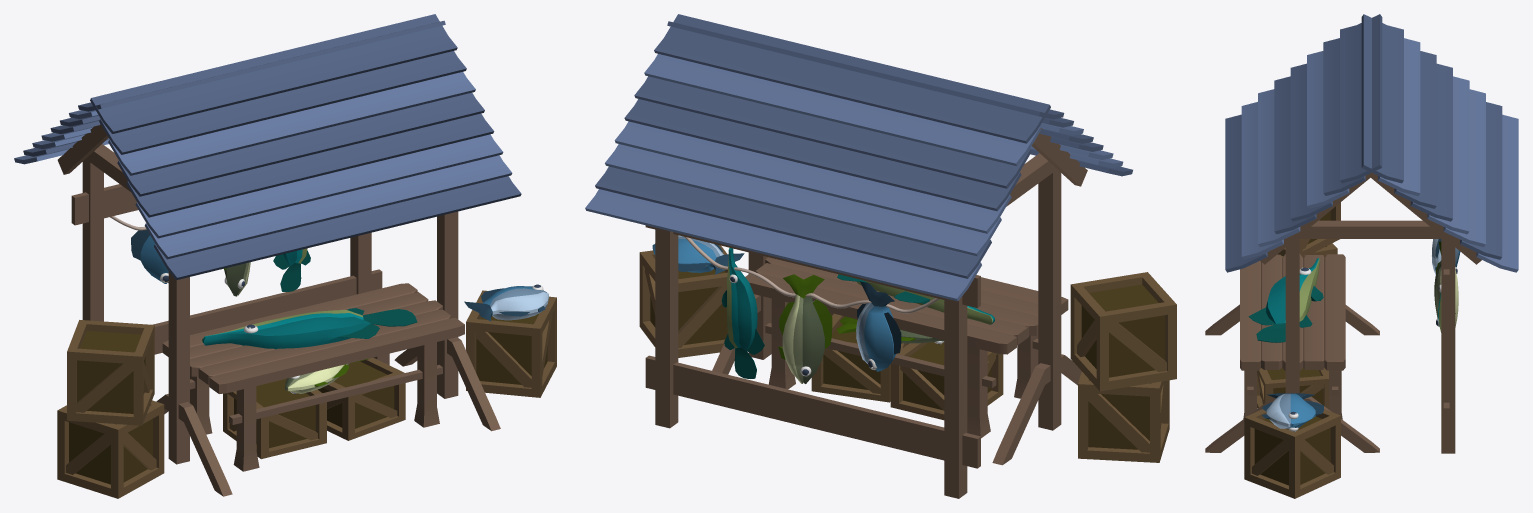
Rendered from fish stall.fbx.
3 renders of one model, left to right at view 1: azimuth 30°, elevation 25°; view 2: azimuth 150°, elevation 25°; view 3: azimuth 270°, elevation 25°, orthographic. The views are drawn at different scales.
Visible parts, largest first — view 1: pCube32, pCube1, crate1_pCube47, pCube26, pCube25, pCube23, pCube36, pCube30, pCube31, pCube33, crate1_pCube46, crate1_pCube48 (+23 smaller); view 2: pCube34, crate1_pCube47, pCube48, pCube24, pCube27, pCube38, pCube22, pCube35, pCube28, pCube29, pCube1, crate1_pCube46 (+23 smaller); view 3: pCube1, crate1_pCube48, pCube34, pCube32, pCube11, pCube28, pCube38, pCube27, pCube36, pCube22, pCube30, pCube31 (+21 smaller).
Boxes of the visible parts, x1=… form: pCube32: x1=90, y1=14, x2=457, y2=133; pCube1: x1=162, y1=283, x2=464, y2=393; crate1_pCube47: x1=67, y1=320, x2=154, y2=425; pCube26: x1=135, y1=134, x2=503, y2=238; pCube25: x1=126, y1=113, x2=494, y2=217; pCube23: x1=108, y1=72, x2=475, y2=175; pCube36: x1=117, y1=92, x2=484, y2=196; pCube30: x1=154, y1=176, x2=521, y2=280; pCube31: x1=144, y1=155, x2=512, y2=259; pCube33: x1=99, y1=51, x2=466, y2=154; crate1_pCube46: x1=57, y1=400, x2=164, y2=498; crate1_pCube48: x1=466, y1=290, x2=556, y2=397; pCube34: x1=654, y1=14, x2=1050, y2=143; crate1_pCube47: x1=1070, y1=272, x2=1176, y2=391; pCube48: x1=645, y1=355, x2=980, y2=468; pCube24: x1=624, y1=99, x2=1021, y2=211; pCube27: x1=595, y1=166, x2=991, y2=278; pCube38: x1=614, y1=121, x2=1011, y2=233; pCube22: x1=644, y1=54, x2=1040, y2=165; pCube35: x1=634, y1=76, x2=1031, y2=188; pCube28: x1=585, y1=189, x2=981, y2=301; pCube29: x1=605, y1=144, x2=1001, y2=256; pCube1: x1=745, y1=257, x2=1068, y2=354; crate1_pCube46: x1=1078, y1=371, x2=1169, y2=462; pCube1: x1=1240, y1=253, x2=1345, y2=371; crate1_pCube48: x1=1244, y1=409, x2=1340, y2=498; pCube34: x1=1361, y1=14, x2=1403, y2=183; pCube32: x1=1340, y1=14, x2=1382, y2=183; pCube11: x1=1441, y1=239, x2=1455, y2=453; pCube28: x1=1476, y1=114, x2=1518, y2=272; pCube38: x1=1427, y1=76, x2=1469, y2=234; pCube27: x1=1460, y1=102, x2=1502, y2=259; pCube36: x1=1290, y1=63, x2=1332, y2=221; pCube22: x1=1378, y1=38, x2=1420, y2=195; pCube30: x1=1225, y1=114, x2=1267, y2=272; pCube31: x1=1241, y1=102, x2=1283, y2=259.
Bounding box in the file's own units: 18.81 × 12.25 × 11.51.
